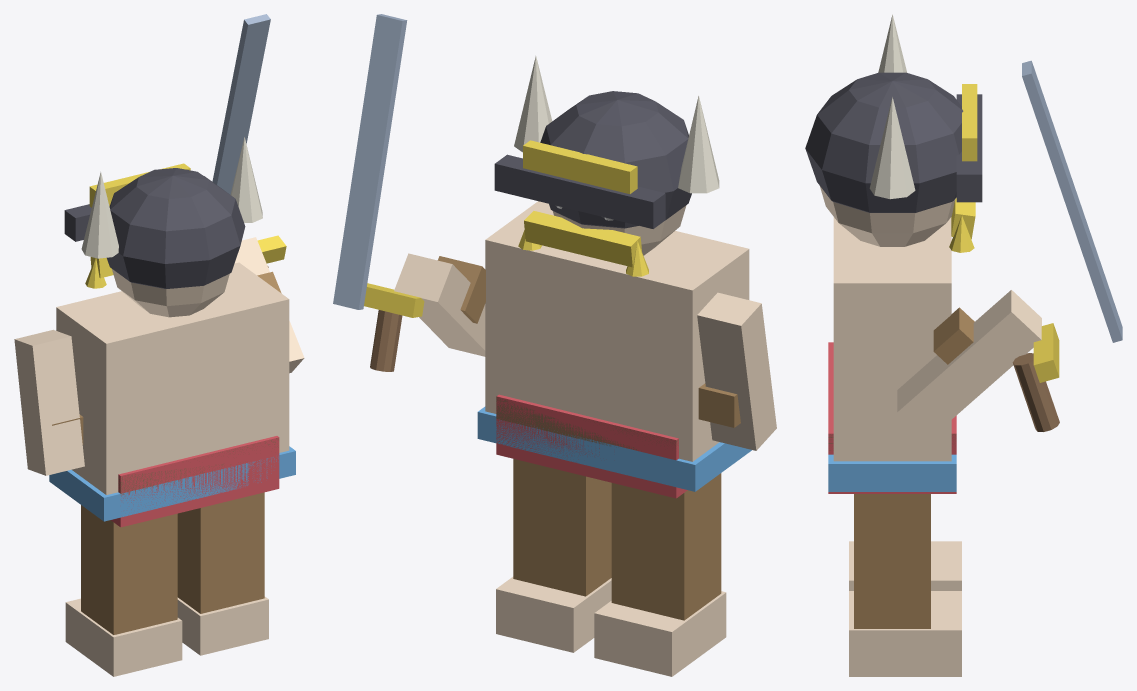
File: elite_barbarians.glb
The picture shows the model from 3 angles, left to right: view 1: azimuth 30°, elevation 25°; view 2: azimuth 150°, elevation 25°; view 3: azimuth 270°, elevation 25°; orthographic projection. The views are drawn at different scales.
Visible parts, largest first — view 1: elite_barbarians; view 2: elite_barbarians; view 3: elite_barbarians.
Part boxes in pixels (box(x1,y1,x2,y2)): elite_barbarians: box(14, 14, 304, 676); elite_barbarians: box(333, 14, 776, 676); elite_barbarians: box(805, 14, 1122, 676).
Bounding box in the file's own units: 1.79 × 3.06 × 1.36.
